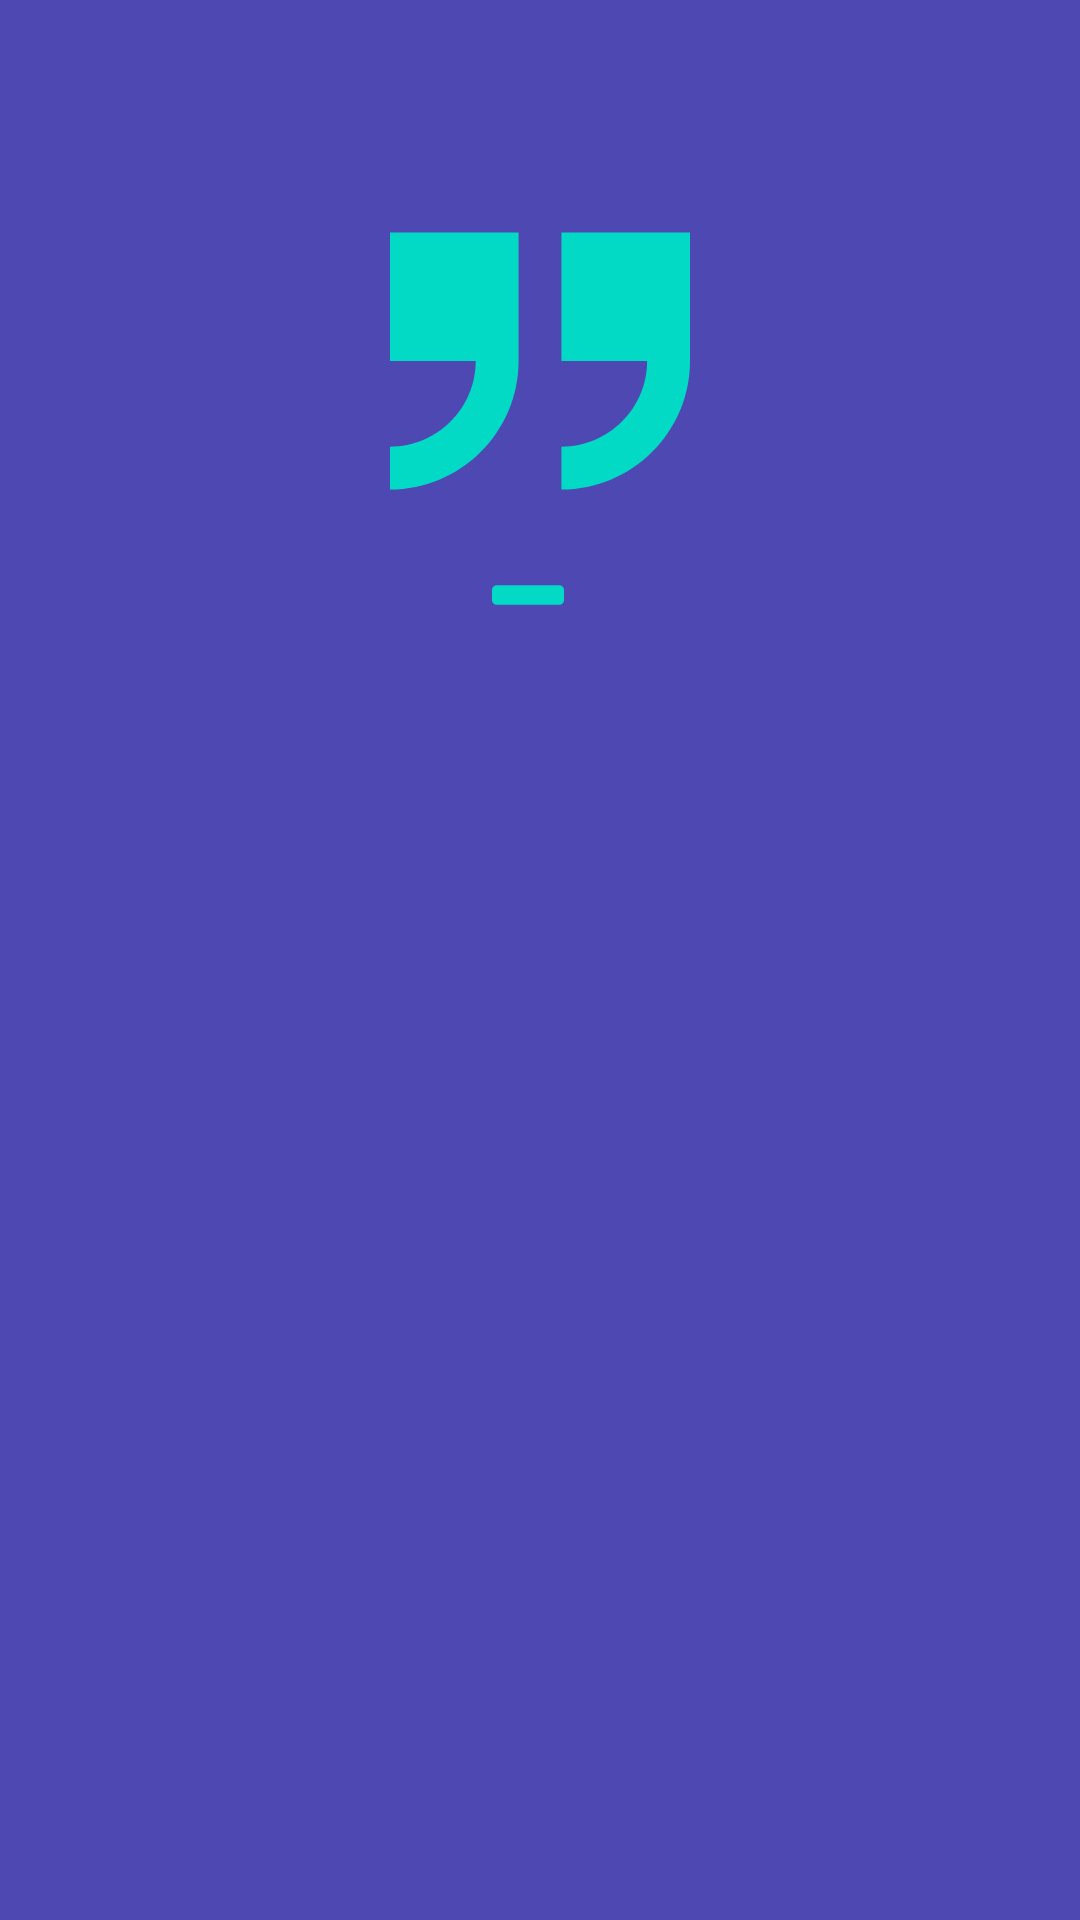

Named icons in this screenshot (1080x1920) and their bounding boxes, [x1,y1,x2,y2]:
quote: [390,232,690,490]
